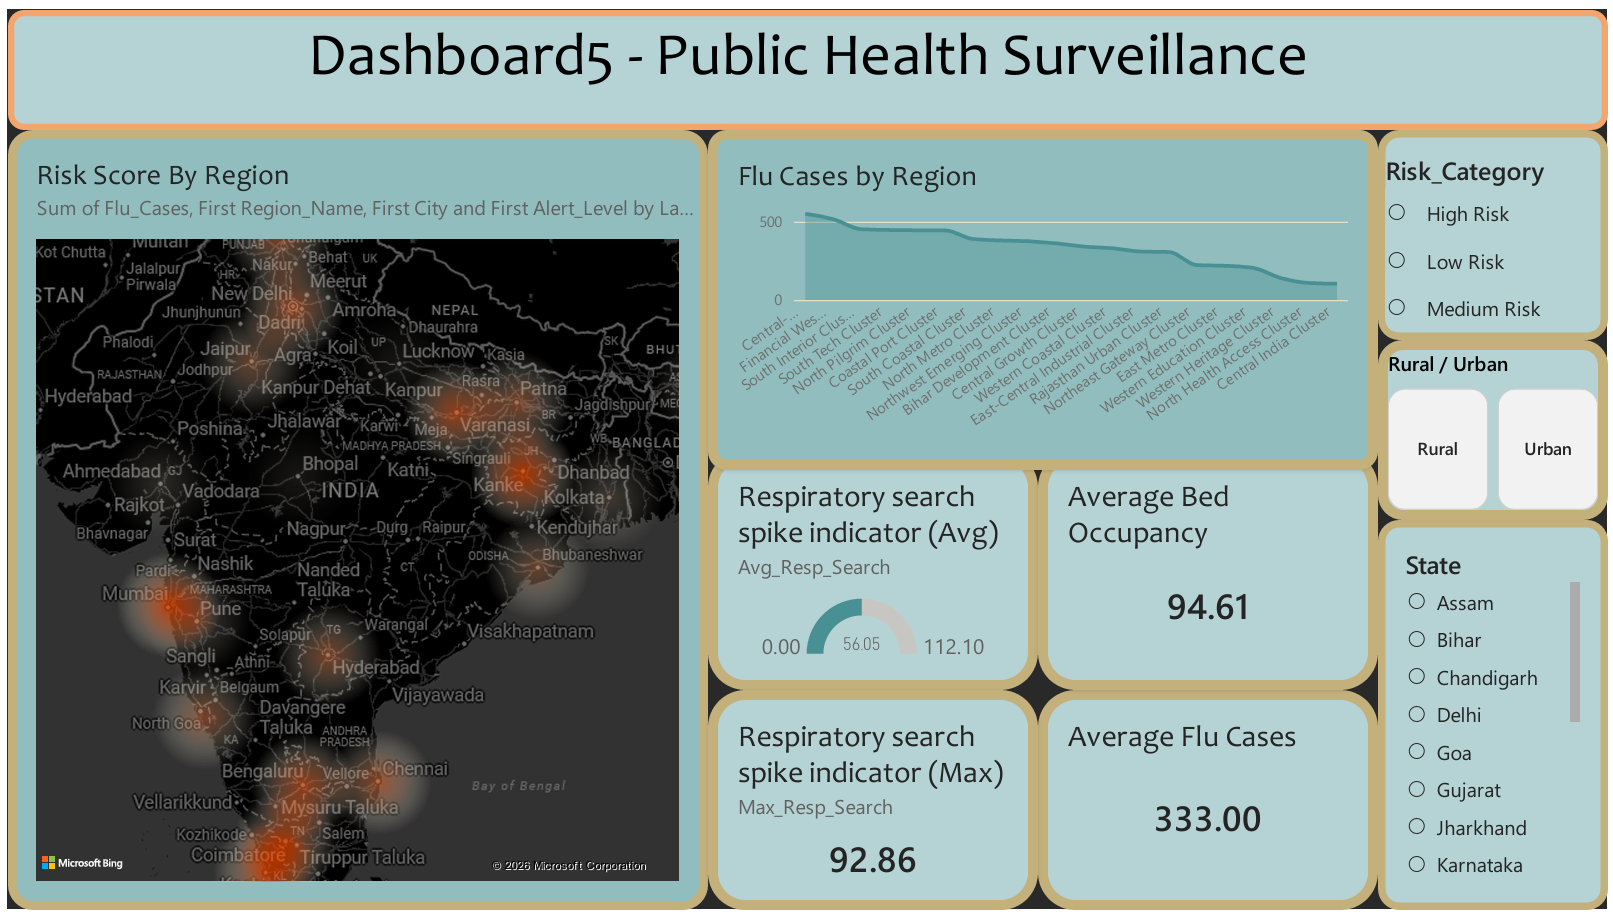

What the dashboard file says about the page in this screenshot:
{"tool":"powerbi","page":{"name":"Dashboard5 - Public Health Surveillance","canvas":[1280,720],"ordinal":4},"visuals":[{"type":"gauge","title":"Respiratory search spike indicator (Avg)","fields":{"Y":["Surveillance.Avg_Resp_Search"]},"box":[560,352,264,192],"z":0},{"type":"card","title":"Average Flu Cases","fields":{"Values":["Surveillance.Avg_Flu_Cases"]},"box":[824,544,272,176],"z":1000},{"type":"textbox","box":[0,0,1280,96],"z":2000},{"type":"map","title":"Risk Score By Region","fields":{"Y":["Region_Lookup.Latitude"],"X":["Region_Lookup.Longitude"],"Size":["Sum(Surveillance.Flu_Cases)"]},"box":[0,96,560,624],"z":3000},{"type":"card","title":"Respiratory search spike indicator (Max)","fields":{"Values":["Surveillance.Max_Resp_Search"]},"box":[560,544,264,176],"z":4000},{"type":"card","title":"Average Bed Occupancy","fields":{"Values":["Surveillance.Avg_Bed_Occupancy"]},"box":[824,352,272,192],"z":5000},{"type":"areaChart","title":"Flu Cases by Region","fields":{"Y":["Sum(Surveillance.Flu_Cases)"],"Category":["Region_Lookup.Region_Name"]},"box":[560,96,536,272],"z":6000},{"type":"listSlicer","fields":{"Values":["Region_Lookup.State"]},"box":[1096,408,184,312],"z":7000},{"type":"listSlicer","fields":{"Values":["Risk_Stratification.Risk_Category"]},"box":[1096,96,184,168],"z":8000},{"type":"advancedSlicerVisual","title":"Rural / Urban","fields":{"Values":["Community_Demographics.Rural_Urban"]},"box":[1096,264,184,144],"z":9000}]}

Visuals, with their boxes in screenshot pixels (x1, y1, x2, y2), scaled from the page's 1280x720 canvas onto the 1613x921 screenshot:
"Respiratory search spike indicator (Avg)" gauge: {"x1": 706, "y1": 450, "x2": 1038, "y2": 696}
"Average Flu Cases" card: {"x1": 1038, "y1": 696, "x2": 1381, "y2": 920}
textbox: {"x1": 0, "y1": 0, "x2": 1612, "y2": 123}
"Risk Score By Region" map: {"x1": 0, "y1": 123, "x2": 706, "y2": 920}
"Respiratory search spike indicator (Max)" card: {"x1": 706, "y1": 696, "x2": 1038, "y2": 920}
"Average Bed Occupancy" card: {"x1": 1038, "y1": 450, "x2": 1381, "y2": 696}
"Flu Cases by Region" areaChart: {"x1": 706, "y1": 123, "x2": 1381, "y2": 471}
listSlicer - Region_Lookup.State: {"x1": 1381, "y1": 522, "x2": 1612, "y2": 920}
listSlicer - Risk_Stratification.Risk_Category: {"x1": 1381, "y1": 123, "x2": 1612, "y2": 338}
"Rural / Urban" advancedSlicerVisual: {"x1": 1381, "y1": 338, "x2": 1612, "y2": 522}
